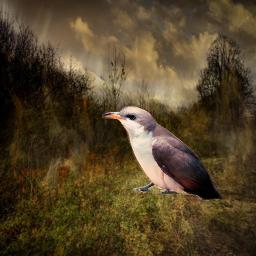Cuckoo: (102, 106, 224, 201)
